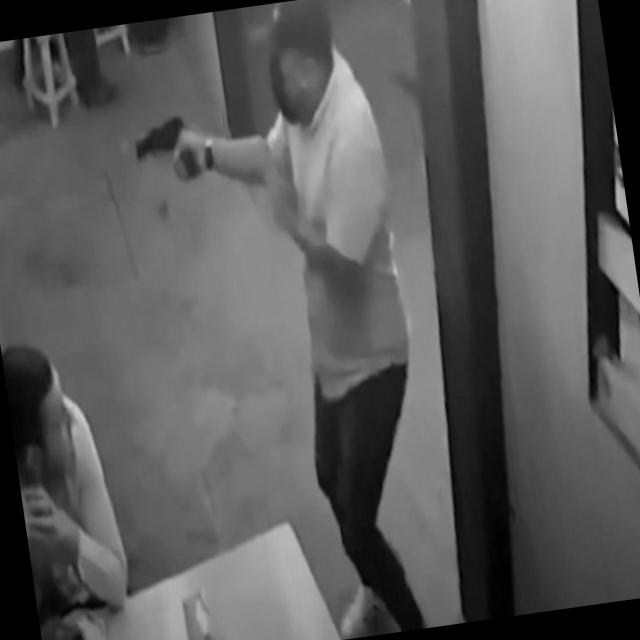gun: (134, 114, 202, 190)
person: (1, 332, 138, 628)
person with a gun: (120, 0, 451, 640)
